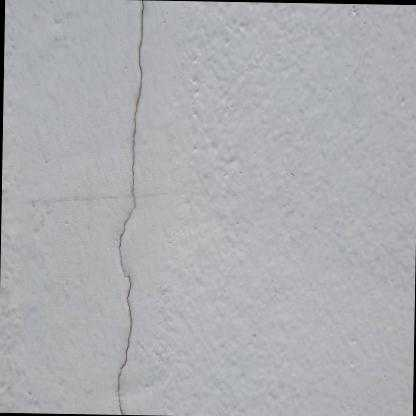crack: (116, 0, 144, 415)
